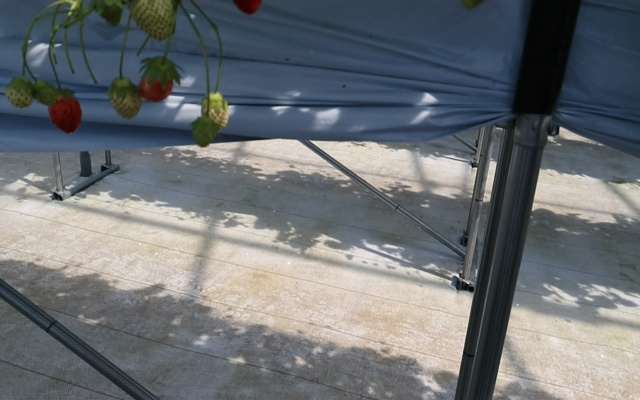GreenStrawberry: (128, 1, 176, 41), (107, 76, 143, 121), (200, 94, 229, 133), (4, 77, 35, 111), (189, 113, 216, 150)
MatureStrawberry: (47, 88, 84, 137), (139, 62, 177, 103)
